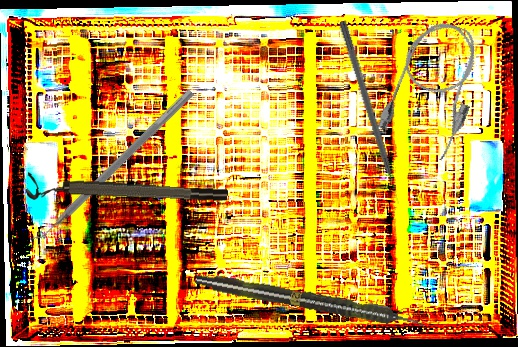Cannula: (373, 12, 496, 164)
Fixation Ring: (25, 171, 229, 214)
Handpiece: (193, 269, 427, 334)
Pusher: (336, 20, 403, 206)
Spatula Surgical: (26, 81, 195, 250)
